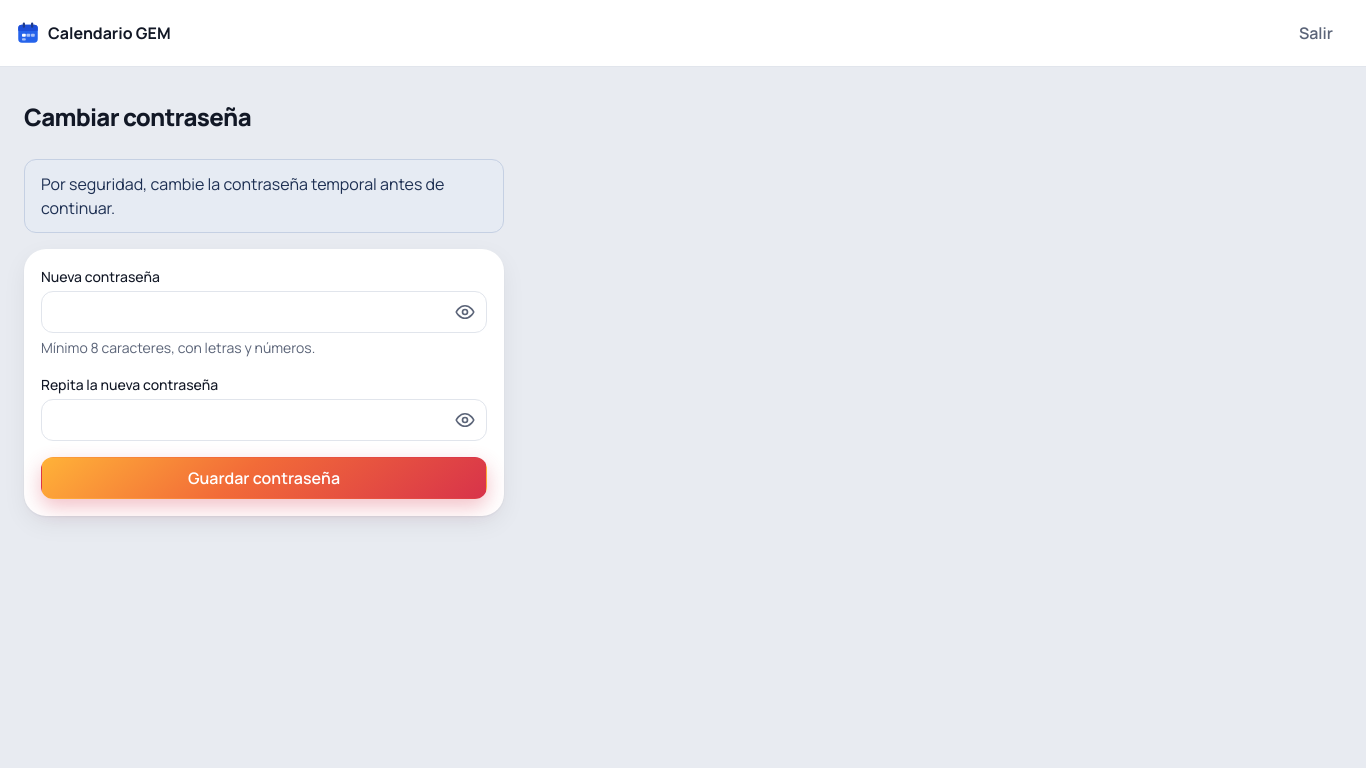
Test: ChangePasswordPage › tras cambiar la contraseña temporal pasa solo al inicio y lo confirma
Type "Nueva12345" into the password field labelled "Nueva contraseña" at [264, 312], box [41, 291, 487, 333]
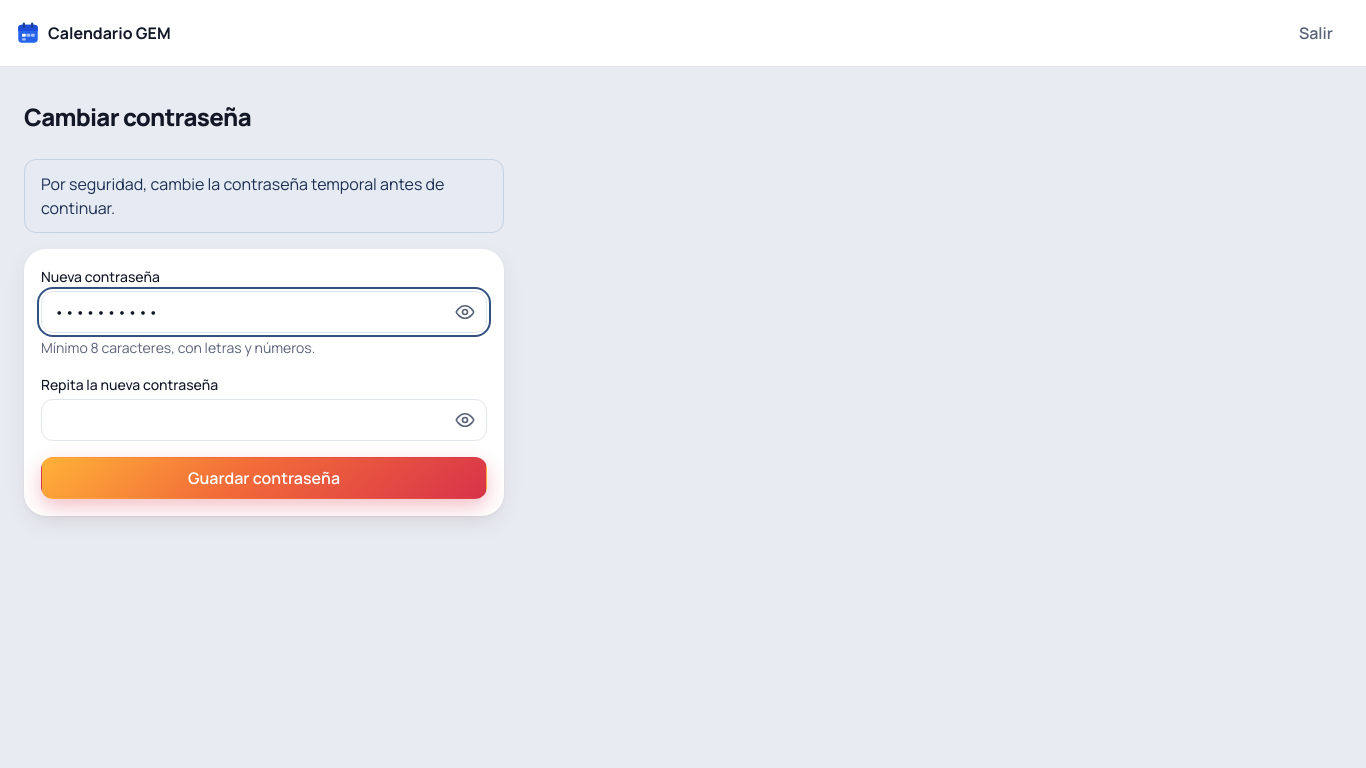
Type "Nueva12345" into the password field labelled "Repita la nueva contraseña" at [264, 420], box [41, 399, 487, 441]
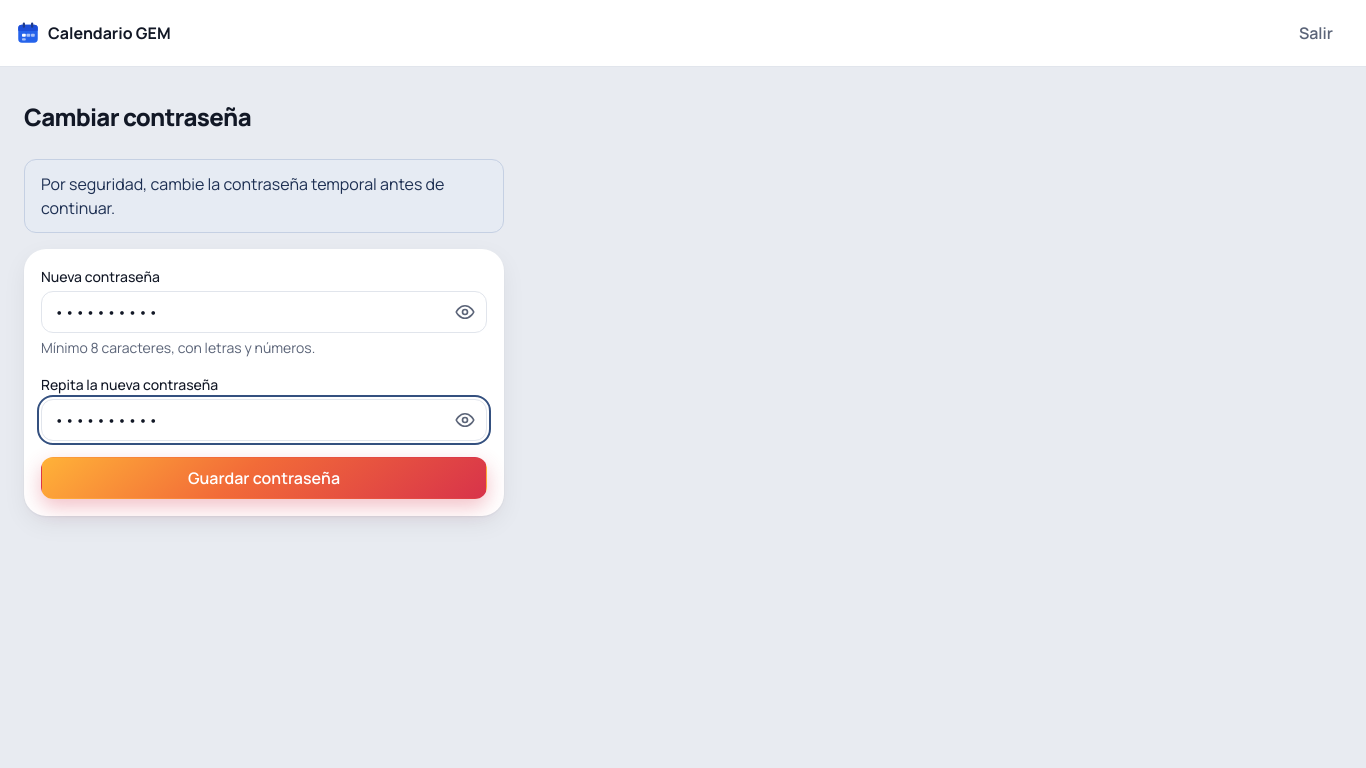
Click the button "Guardar contraseña" at [264, 478], box [41, 457, 487, 499]
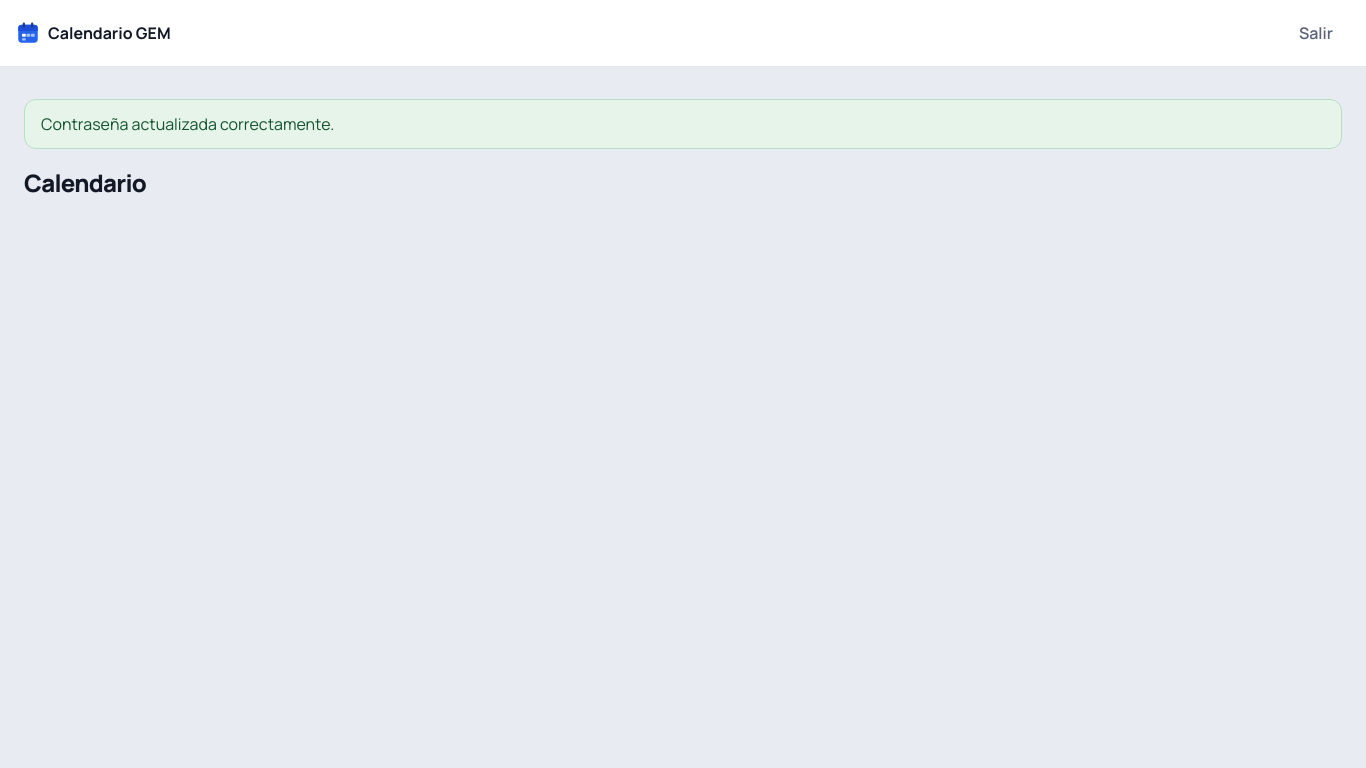
Expected: the heading "Calendario" is shown, [24, 166, 146, 199]
Expected: the message reads "Contraseña actualizada correctamente.", [41, 113, 334, 135]
Expected: the text labelled "Nueva contraseña" is gone
